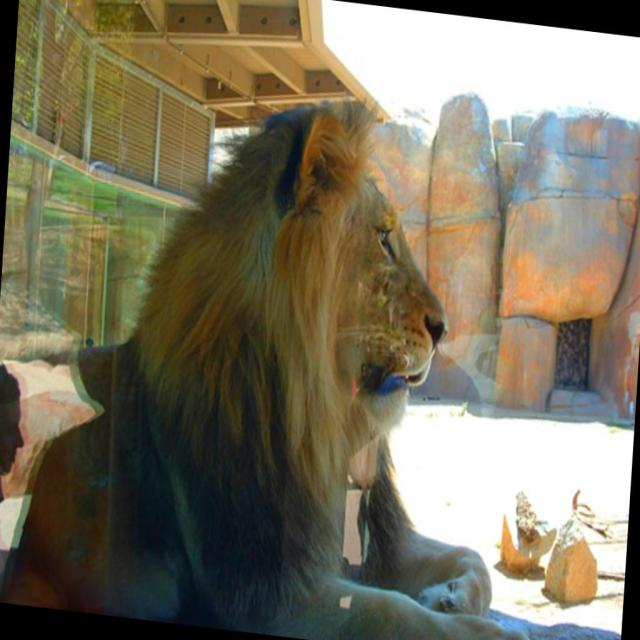Lion: (0, 47, 596, 639)
